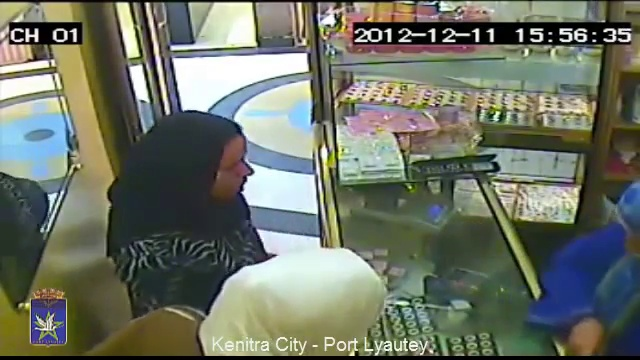face: (213, 149, 253, 202)
